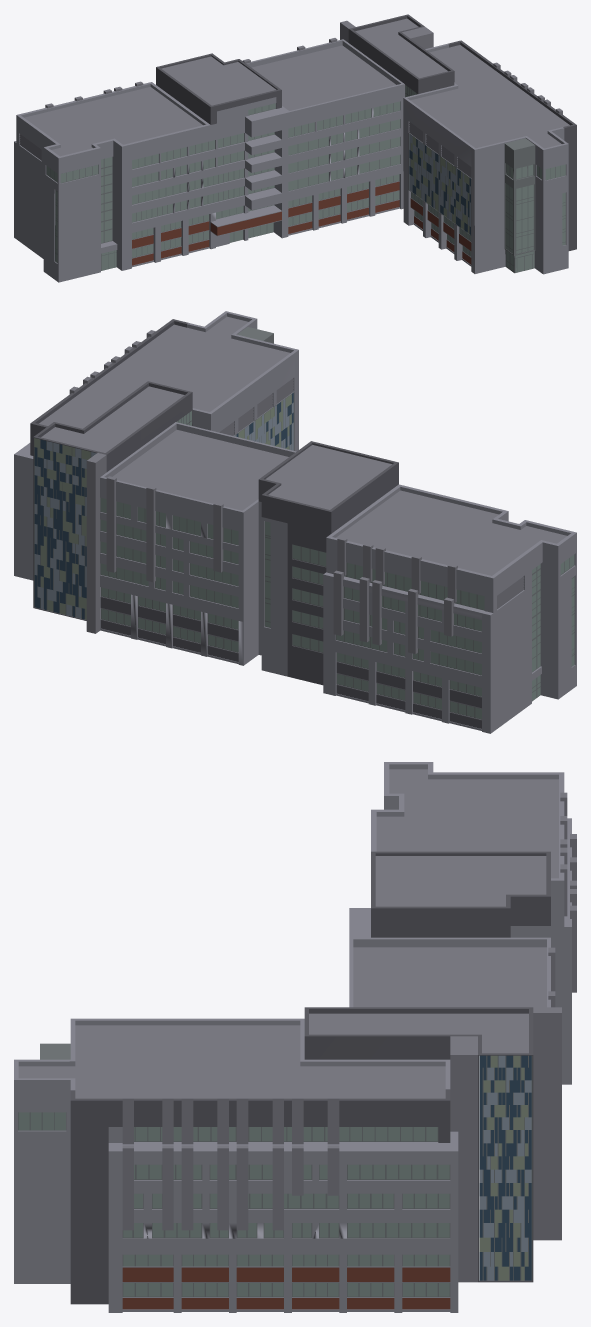
The model's file is 01_이과대학.FBX.
The picture shows the model from 3 angles, top to bottom: view 1: azimuth 30°, elevation 25°; view 2: azimuth 150°, elevation 25°; view 3: azimuth 270°, elevation 25°; orthographic projection. The views are drawn at different scales.
Visible parts, largest first — view 1: 01_이과대학; view 2: 01_이과대학; view 3: 01_이과대학.
Boxes of the visible parts, <box> form: 01_이과대학: <box>14,14,576,282</box>; 01_이과대학: <box>14,311,576,733</box>; 01_이과대학: <box>14,762,576,1312</box>.
Bounding box in the file's own units: 392 × 122 × 268.
